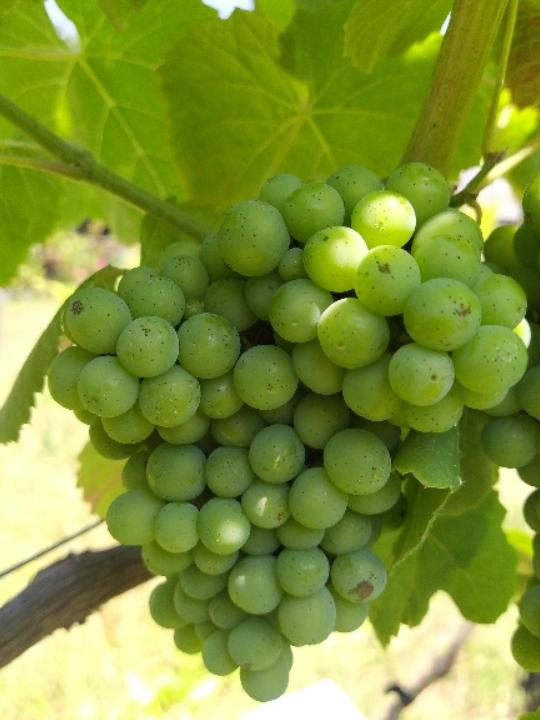grape: (45, 159, 531, 706)
